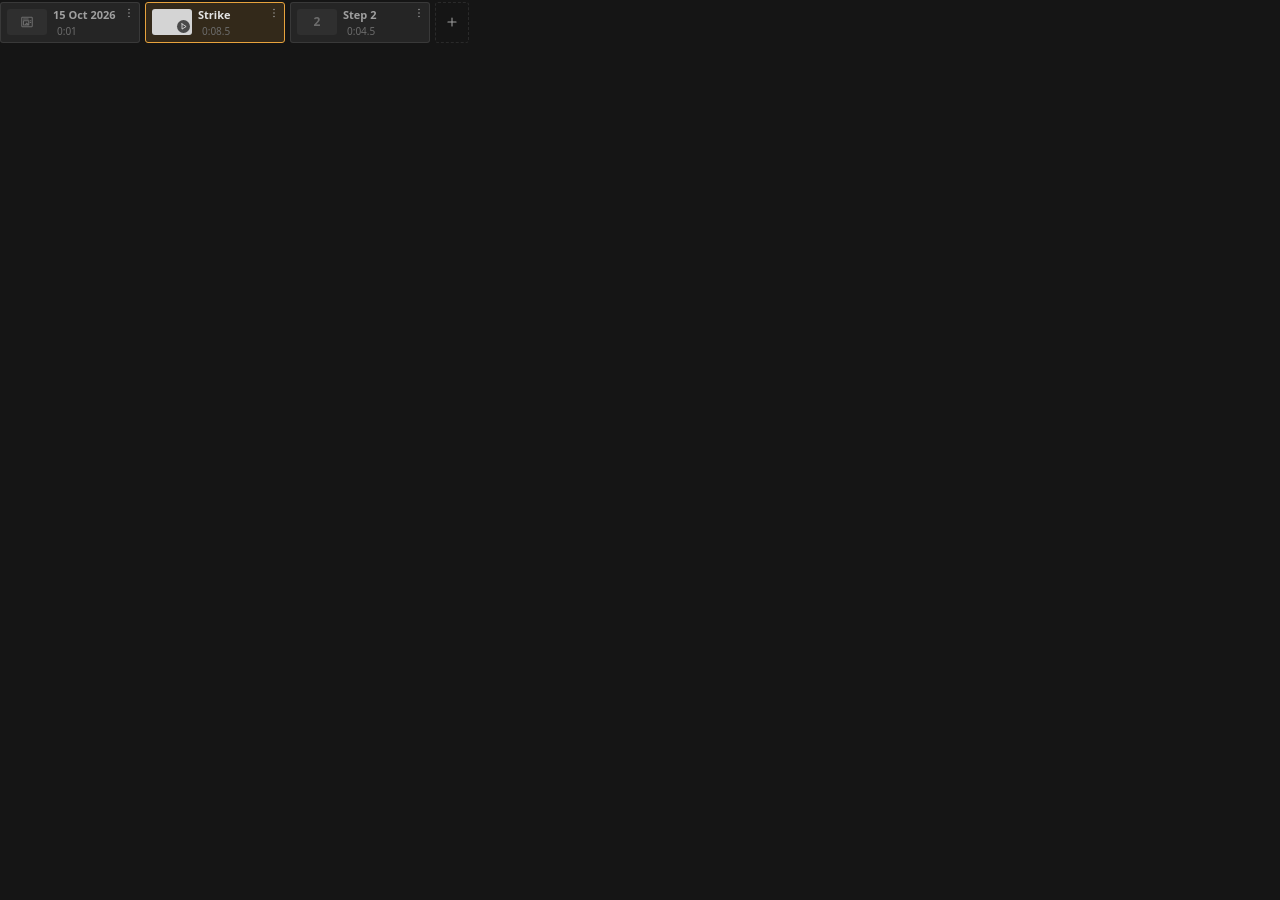
it: the steps of a day › opens a step's menu, or the day's, where a right-click falls
Right-click the option "2 Step 2": (360, 22) [290,2,430,42]
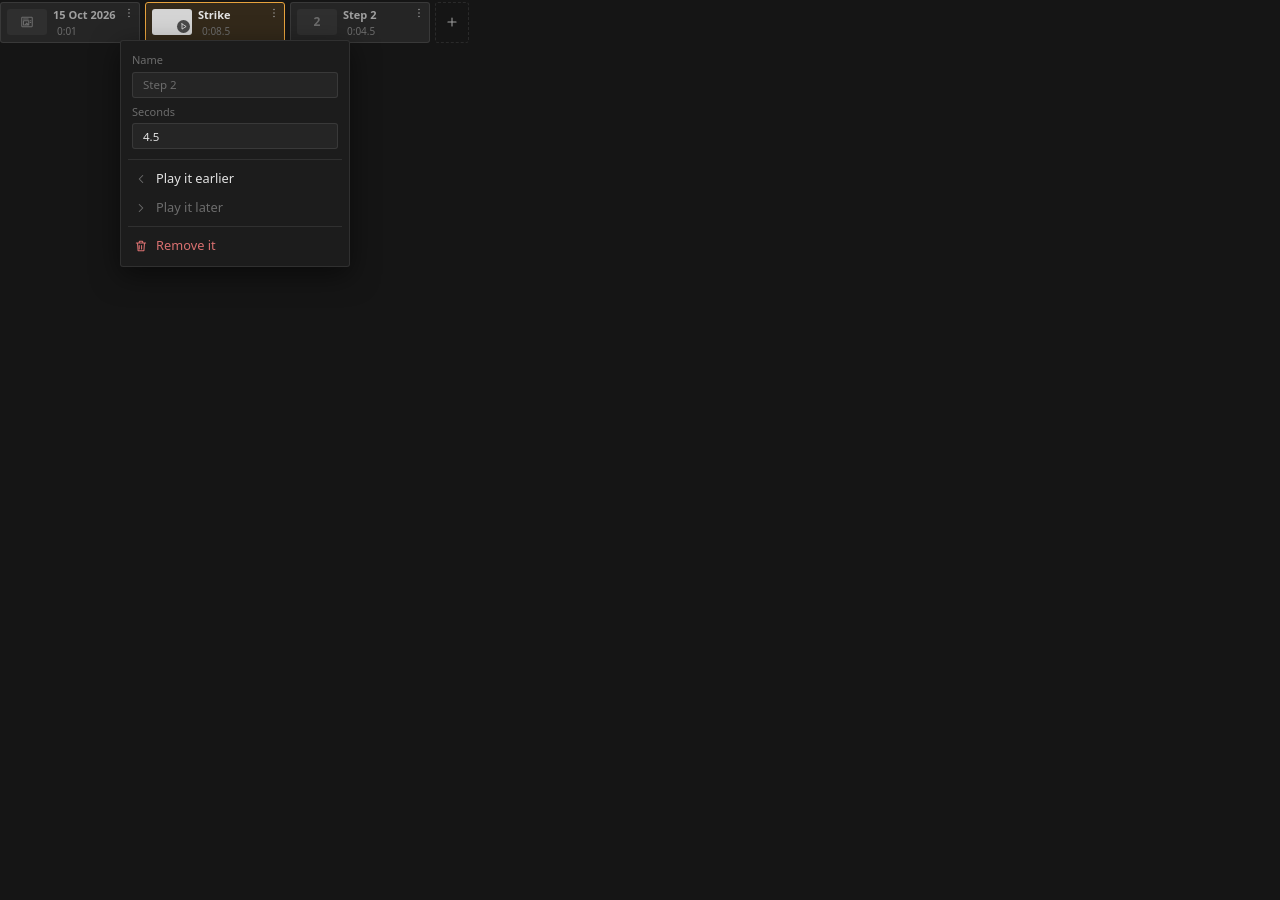
Check: the dialog named "Step" is shown, box [120,40,350,267]
Click the button with class "fm-item" showing "Play it earlier": (235, 179) [126,164,344,193]
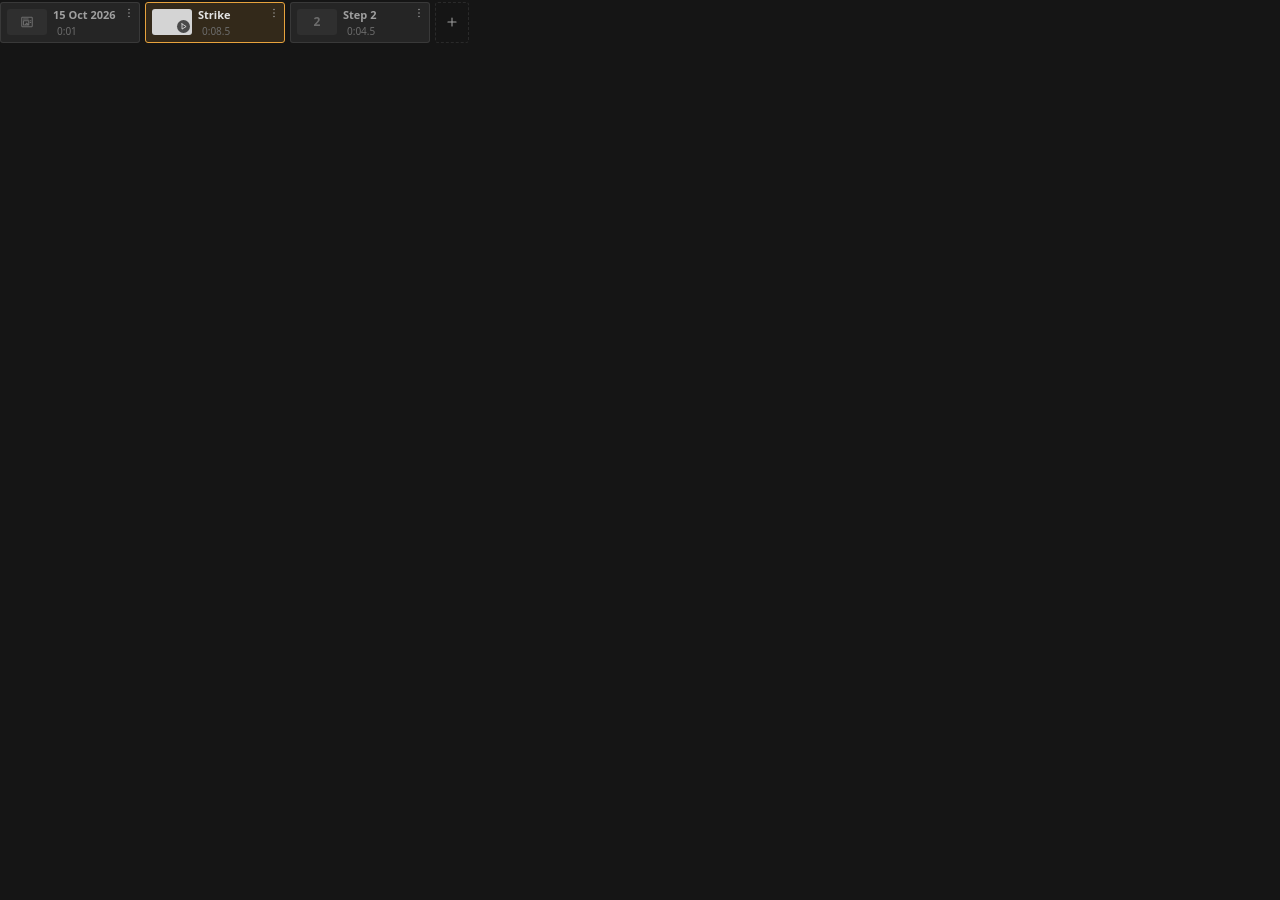
Right-click the option "15 Oct 2026": (70, 22) [0,2,140,42]
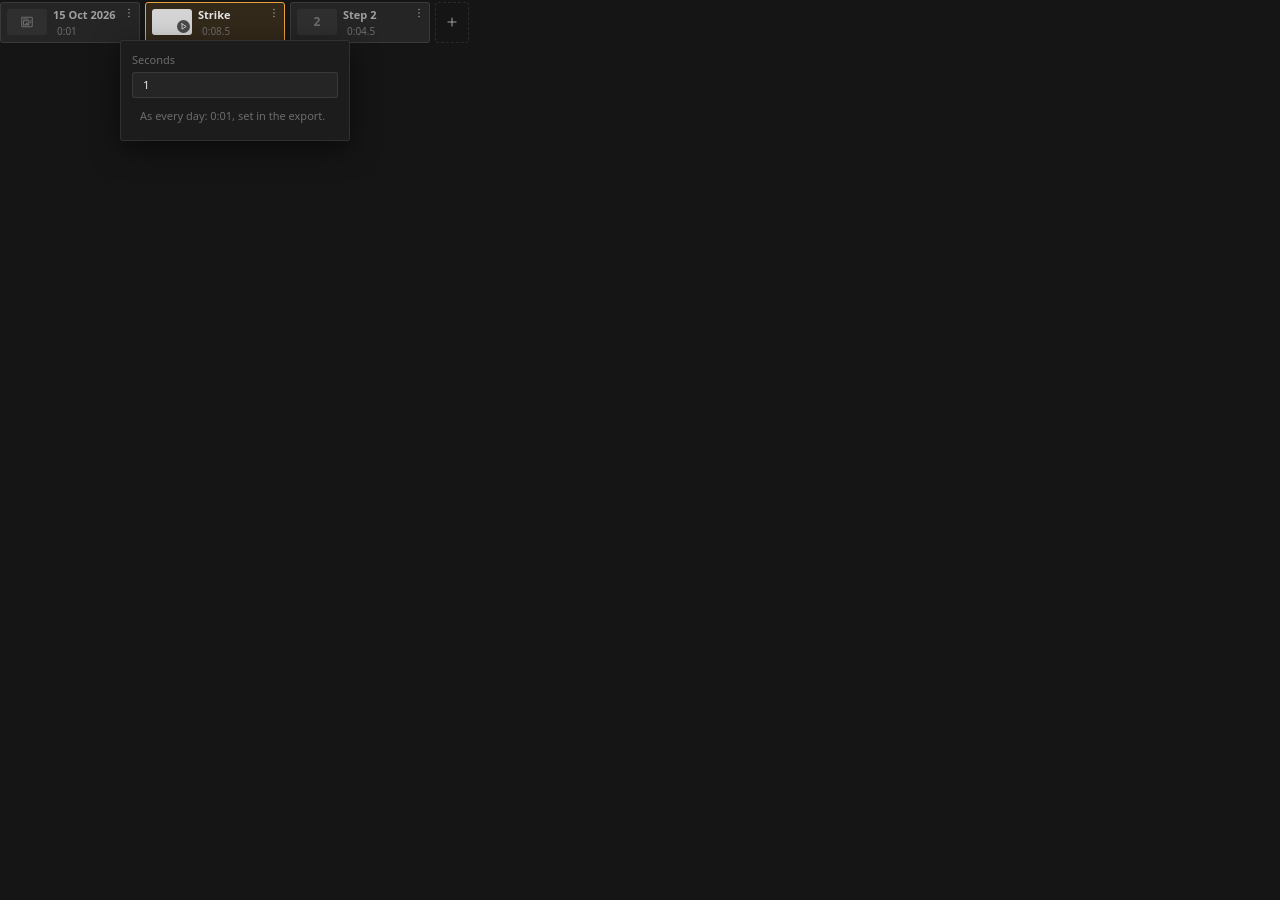
Check: the dialog named "The day" is shown, box [120,40,350,141]
